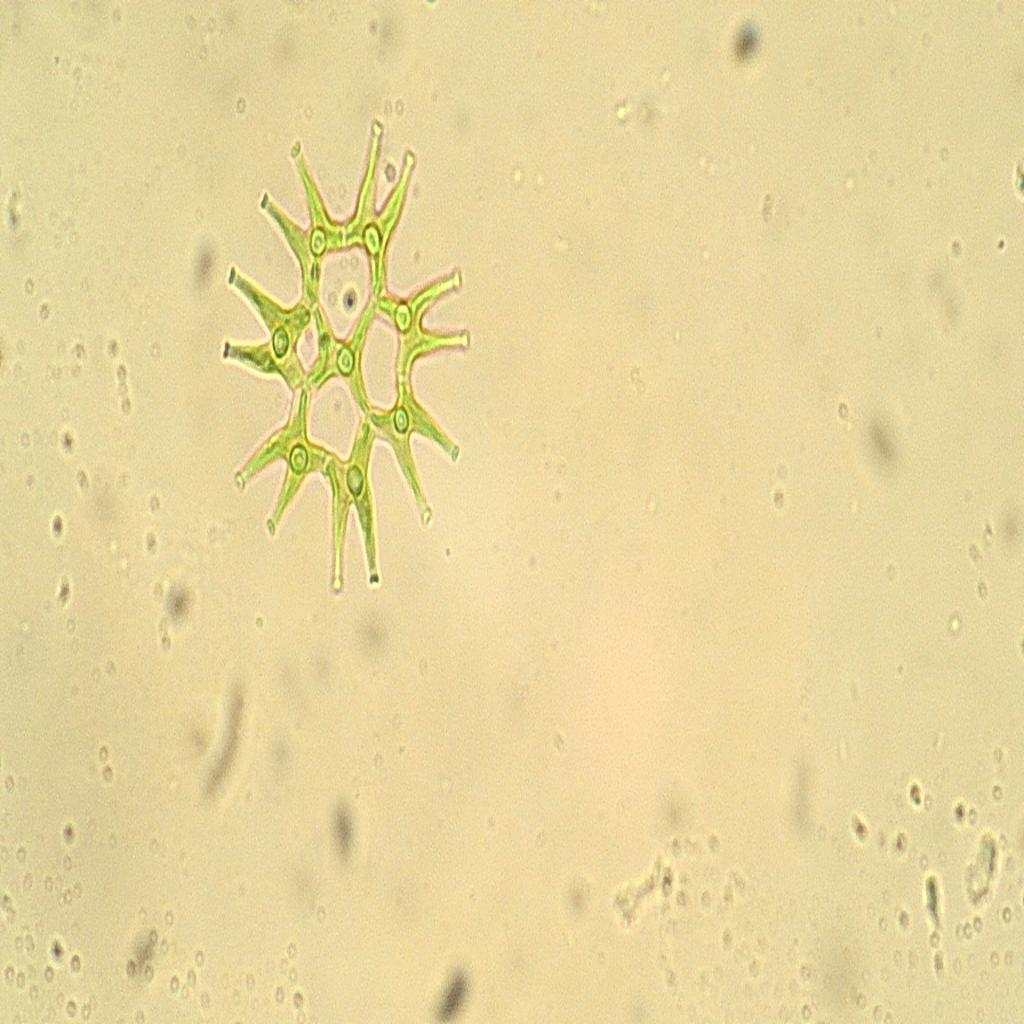Pediastrum_CTH: (200, 102, 486, 604)
